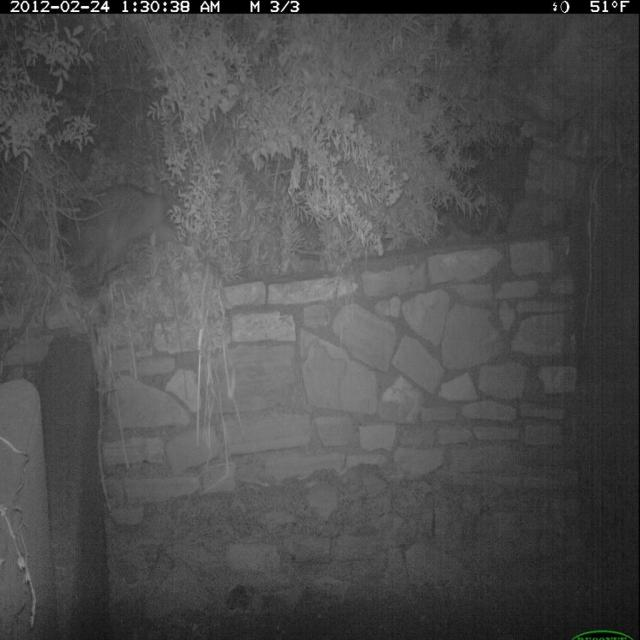raccoon: (54, 177, 183, 292)
